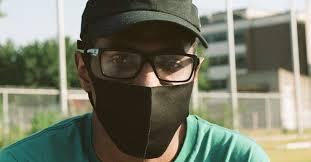cap: (73, 0, 216, 50)
mask: (90, 72, 194, 161)
sunglasses: (94, 45, 215, 80)
